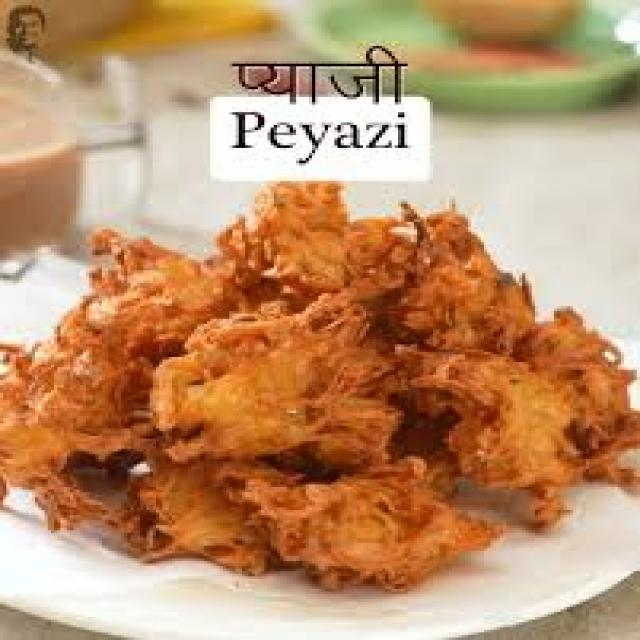BAJI: (0, 172, 636, 584)
